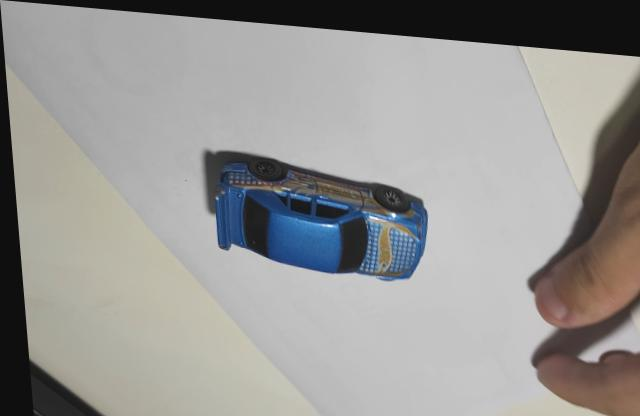04_MERZEDES: (210, 147, 425, 273)
